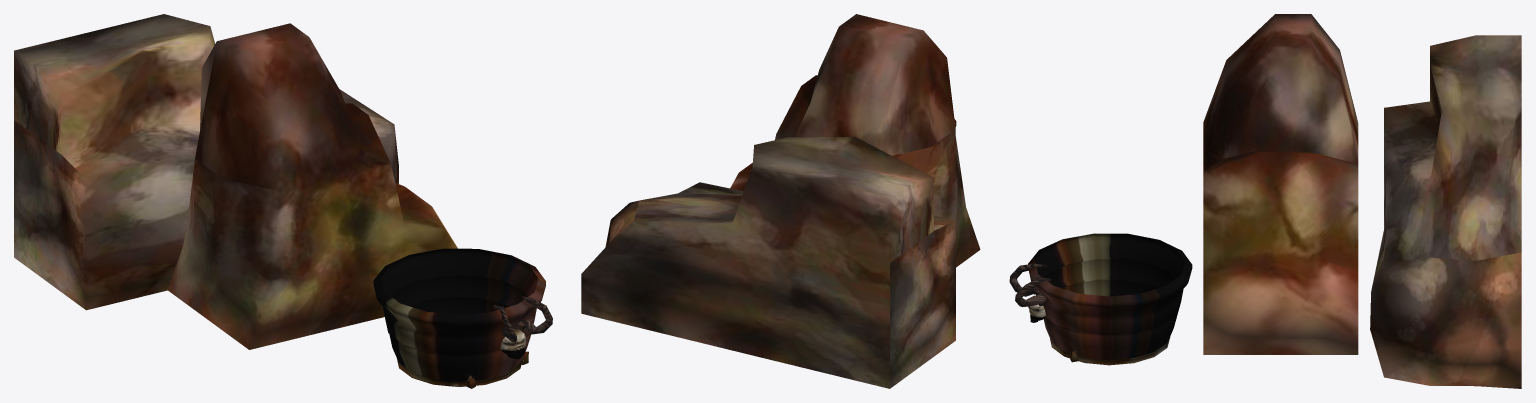
The model's file is stenenenketelenzo.fbx.
3 views of the same model, side by side, from view 1: azimuth 30°, elevation 25°; view 2: azimuth 150°, elevation 25°; view 3: azimuth 270°, elevation 25° (orthographic). The views are drawn at different scales.
Parts seen in each view (by area): view 1: steen01, steen02, ketel, polySurface2, polySurface1; view 2: steen02, steen01; view 3: steen01, steen02, ketel, polySurface2.
Boxes of the visible parts, x1,y1,x2,y2 form: steen01: (168, 23, 457, 349); steen02: (14, 14, 398, 310); ketel: (373, 248, 545, 388); polySurface2: (493, 296, 552, 342); polySurface1: (500, 329, 526, 358); steen02: (581, 136, 955, 388); steen01: (730, 14, 980, 267); steen01: (1203, 14, 1358, 354); steen02: (1370, 35, 1521, 388); ketel: (1028, 233, 1192, 365); polySurface2: (1009, 263, 1050, 307).
Bounding box in the file's own units: 6.1 × 4.84 × 8.43.
1 material, 1 textured.
